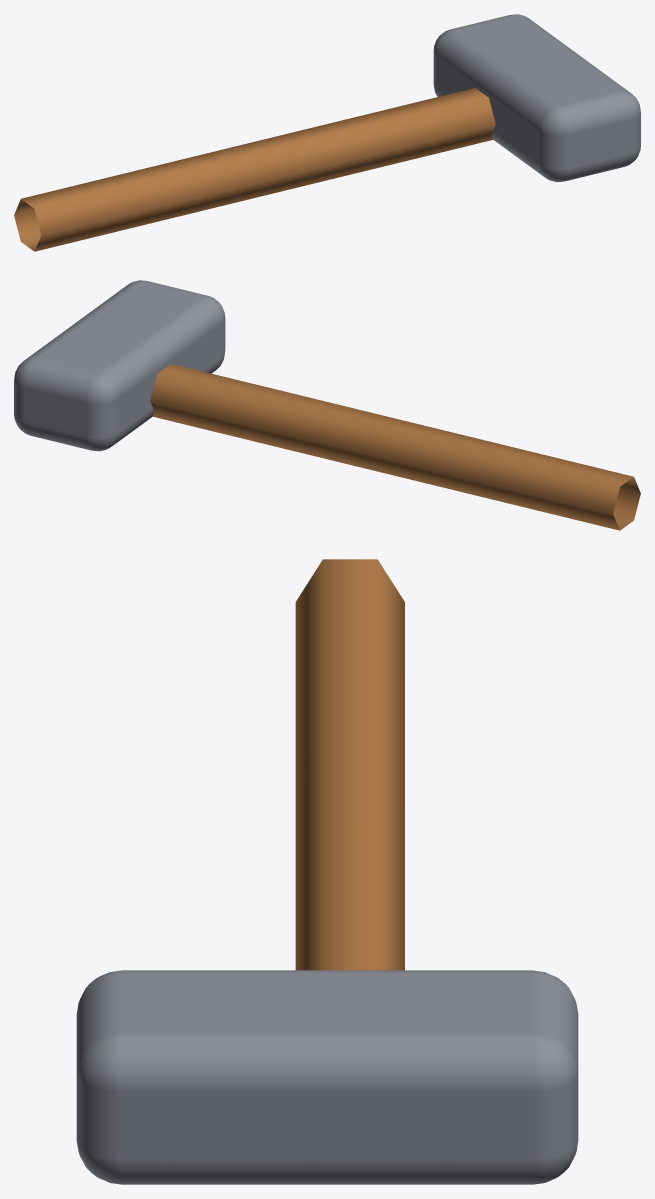
The model's file is item_ic_lost_hammer.glb.
3 views of the same model, one above another, from view 1: azimuth 30°, elevation 25°; view 2: azimuth 150°, elevation 25°; view 3: azimuth 270°, elevation 25° (orthographic). The views are drawn at different scales.
Parts seen in each view (by area): view 1: item_ic_lost_hammer_main, item_ic_lost_hammer_gloss; view 2: item_ic_lost_hammer_main, item_ic_lost_hammer_gloss; view 3: item_ic_lost_hammer_gloss, item_ic_lost_hammer_main.
Part boxes in pixels (x1=…): item_ic_lost_hammer_main: x1=14, y1=88, x2=495, y2=251; item_ic_lost_hammer_gloss: x1=433, y1=14, x2=640, y2=182; item_ic_lost_hammer_main: x1=150, y1=364, x2=640, y2=530; item_ic_lost_hammer_gloss: x1=14, y1=280, x2=225, y2=451; item_ic_lost_hammer_gloss: x1=76, y1=970, x2=578, y2=1184; item_ic_lost_hammer_main: x1=295, y1=559, x2=404, y2=970.
Size of the model in its own units: 0.28 by 0.036 by 0.11.
